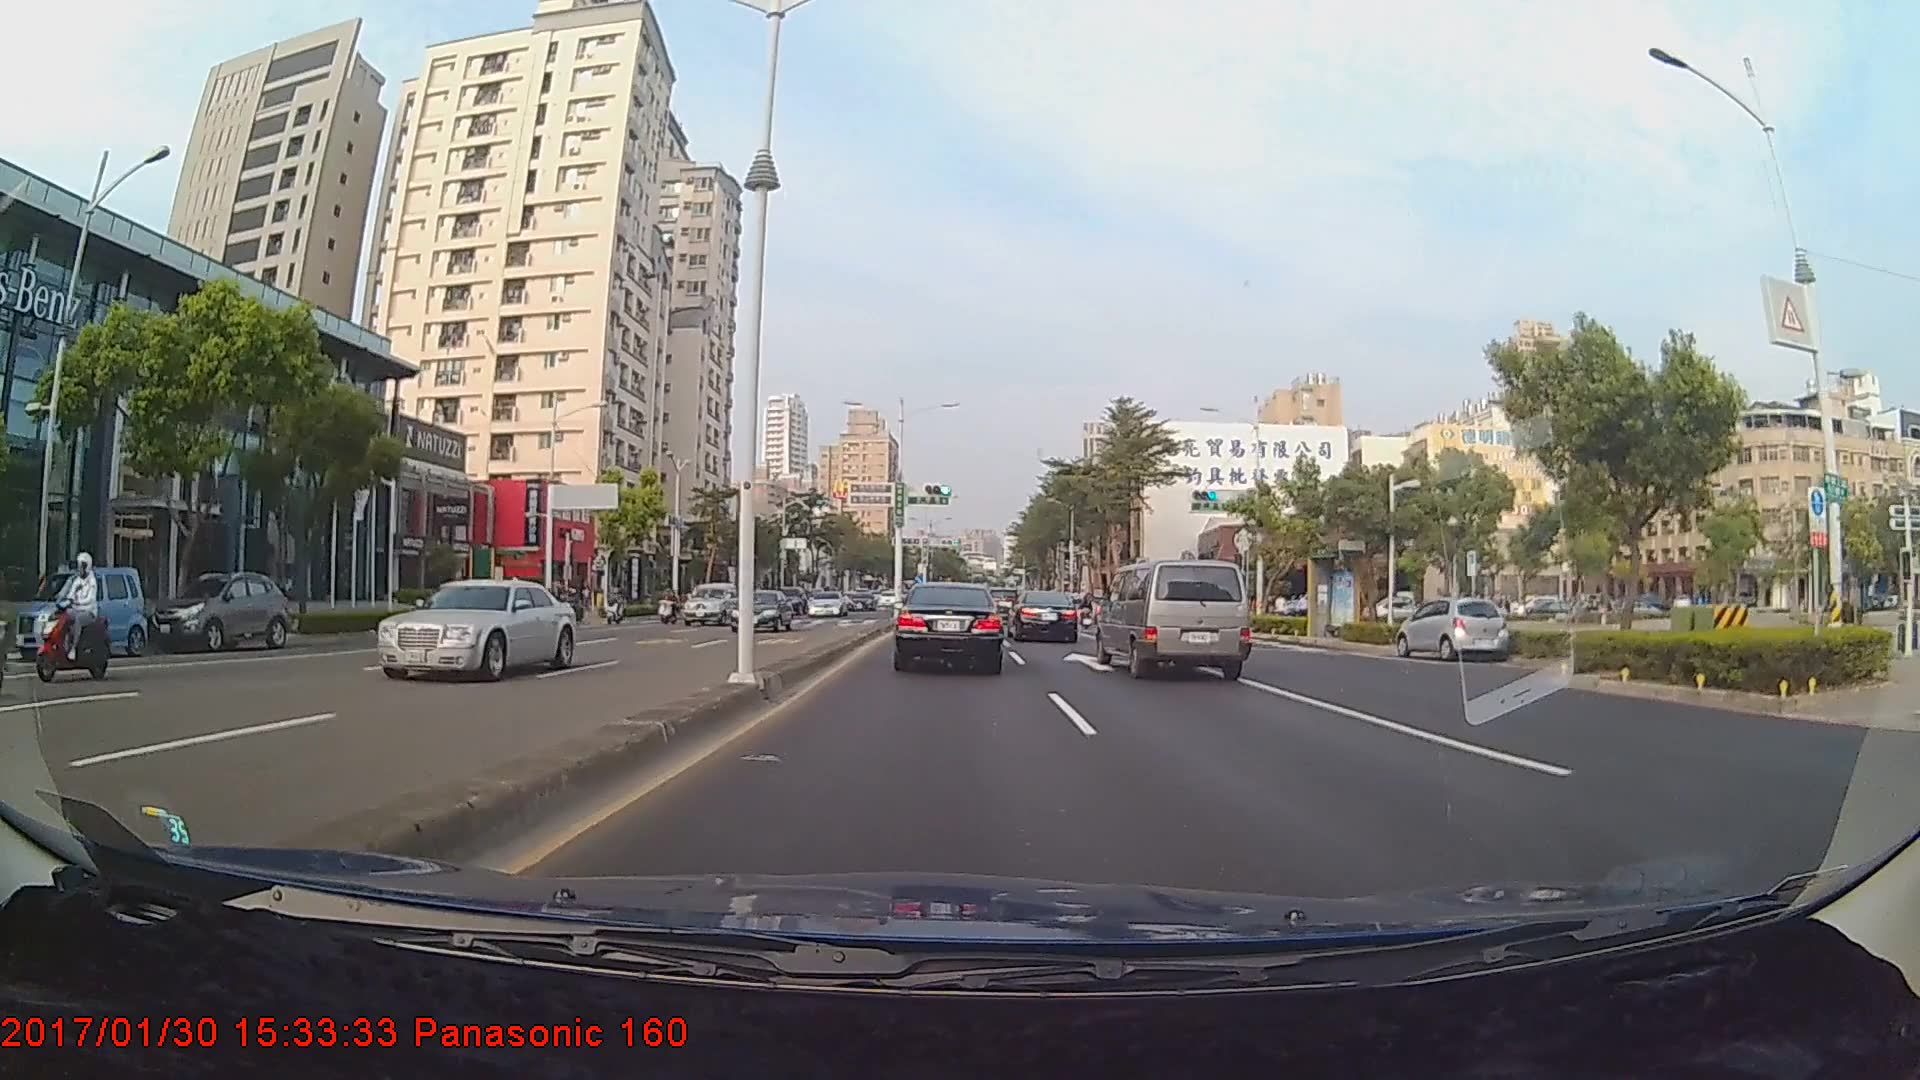rider: (31, 549, 113, 683)
vehicle: (373, 578, 577, 681), (1094, 556, 1253, 681), (11, 563, 150, 660), (148, 567, 288, 652), (895, 580, 1005, 670), (1396, 597, 1508, 663), (1007, 589, 1081, 644), (681, 581, 741, 627), (736, 585, 798, 628), (807, 588, 849, 615)
